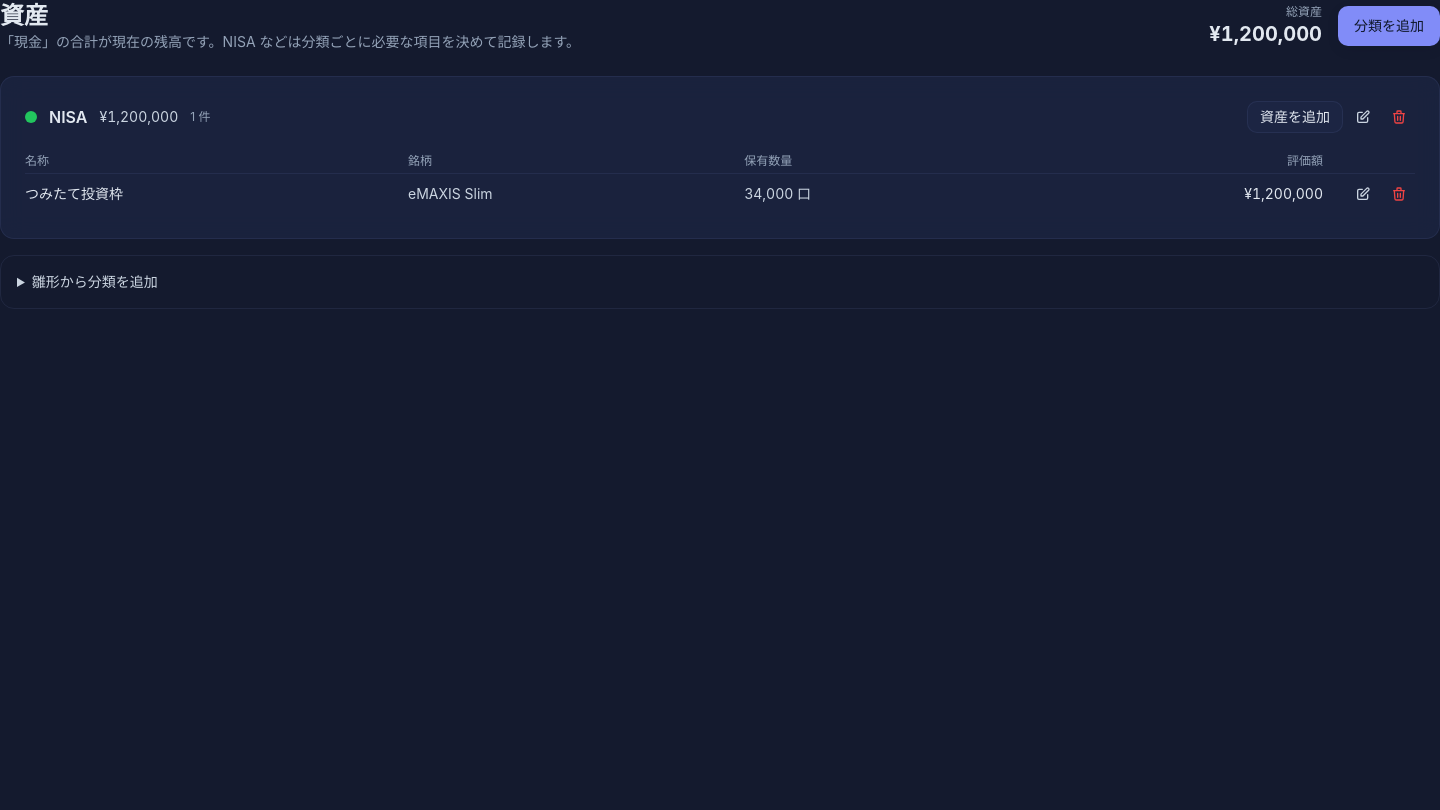
it: when the ledger tracks assets › warns before saving a category edit that discards stored values
Click the button named "NISAの分類を編集" at (1363, 117), box [1347,101,1379,133]
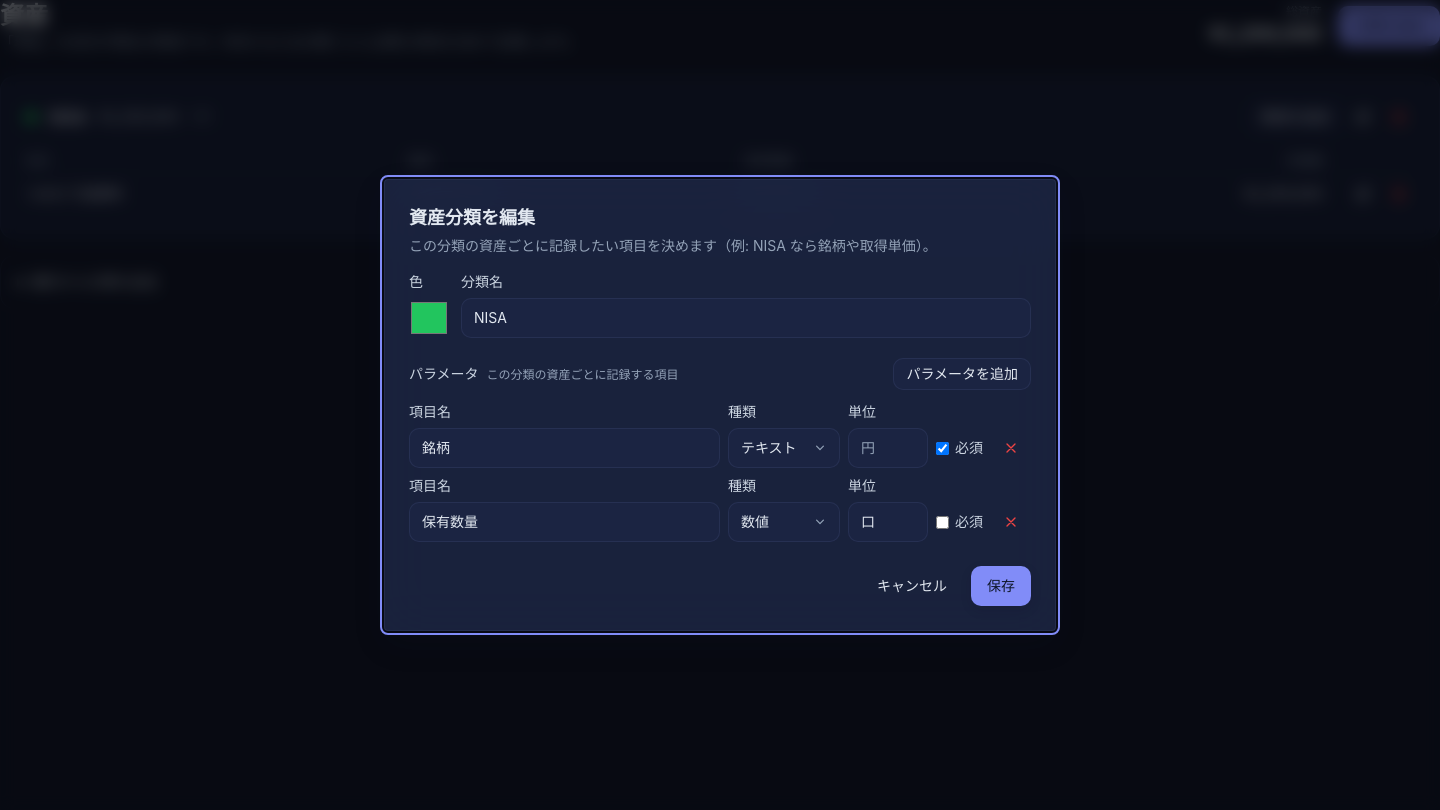
Click the button named "保有数量を削除" at (1011, 522), box [991,502,1031,542]
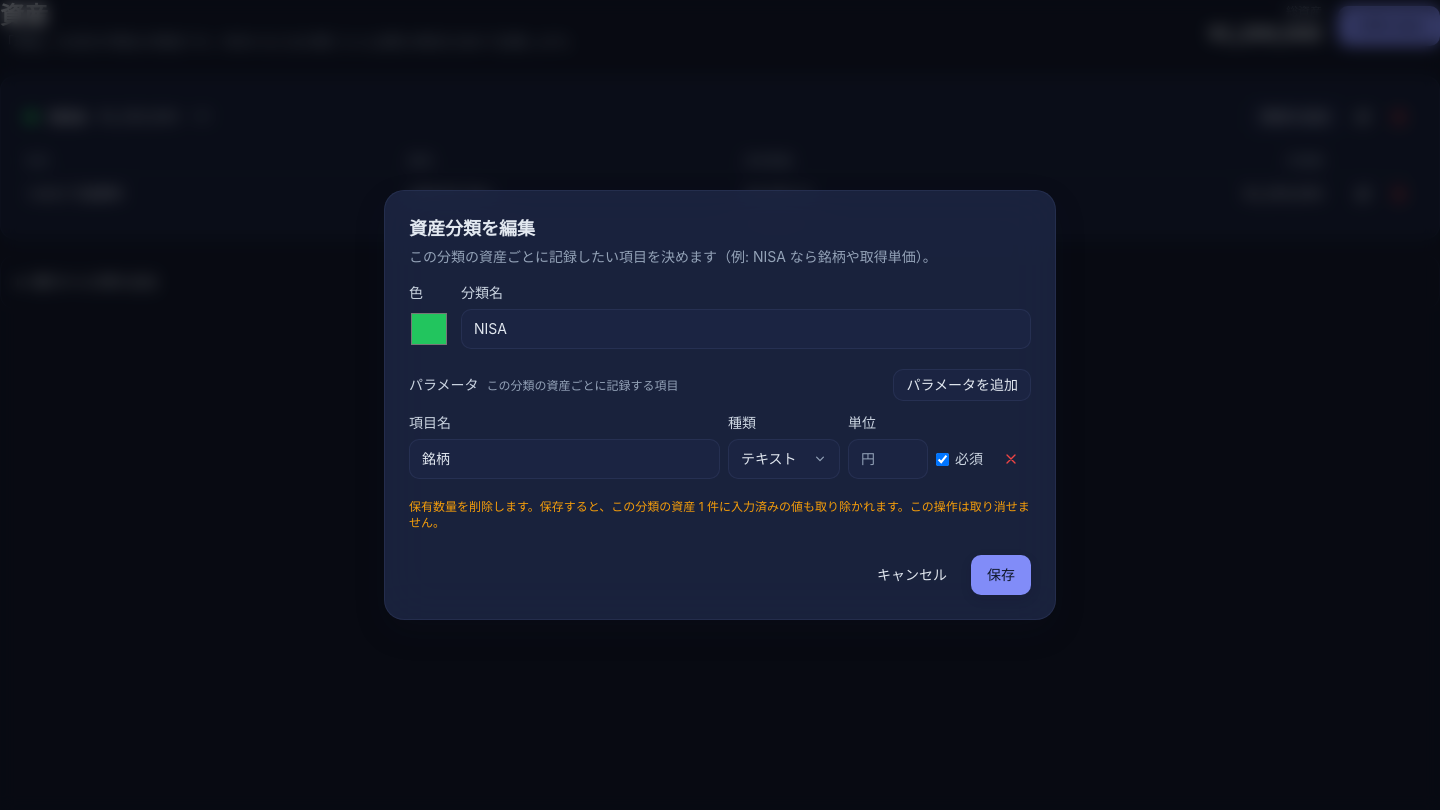
Now the text "保有数量を削除します。保存すると、この分類の資産 1 件に入力済みの値も取り除かれます。この操作は取り消せません。" is shown, box [409,499,1031,531]
